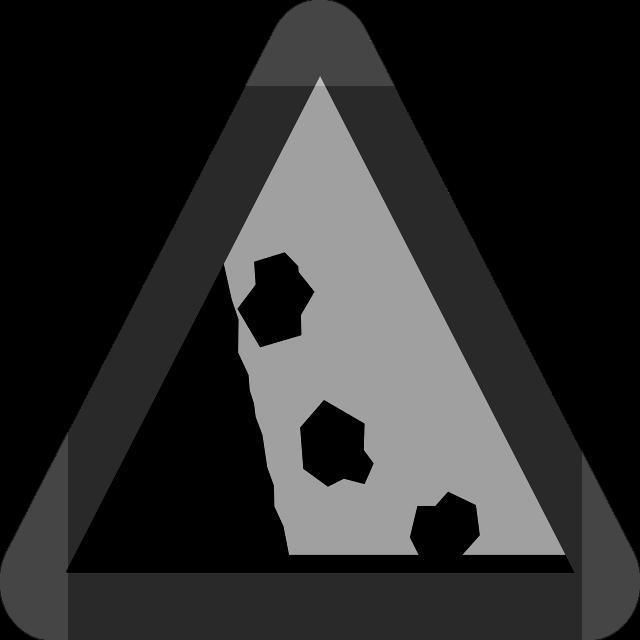falling rocks: (28, 26, 609, 622)
